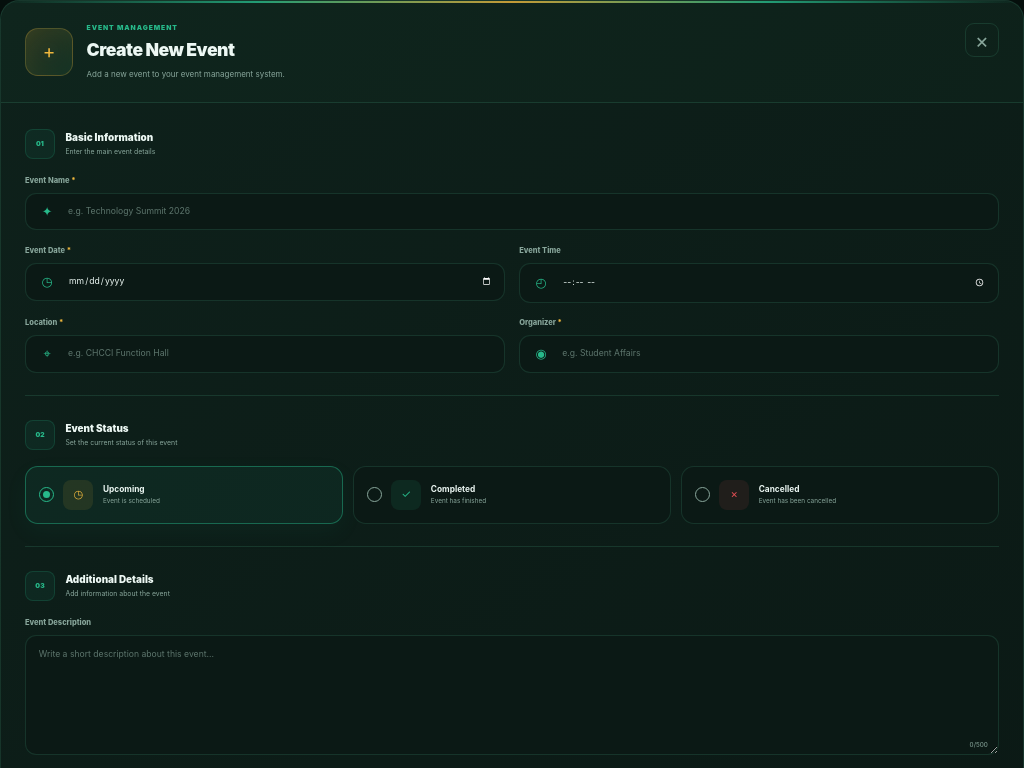
Event Management System › rejects an Upcoming event when the event date is already in the past
This screenshot has width=1024, height=768.
Type "Past Date Event" into the field labelled "Event Name *" at (533, 212), box [68,194,998,230]
Type "2020-01-01" into the date field labelled "Event Date *" at (286, 282), box [68,264,504,300]
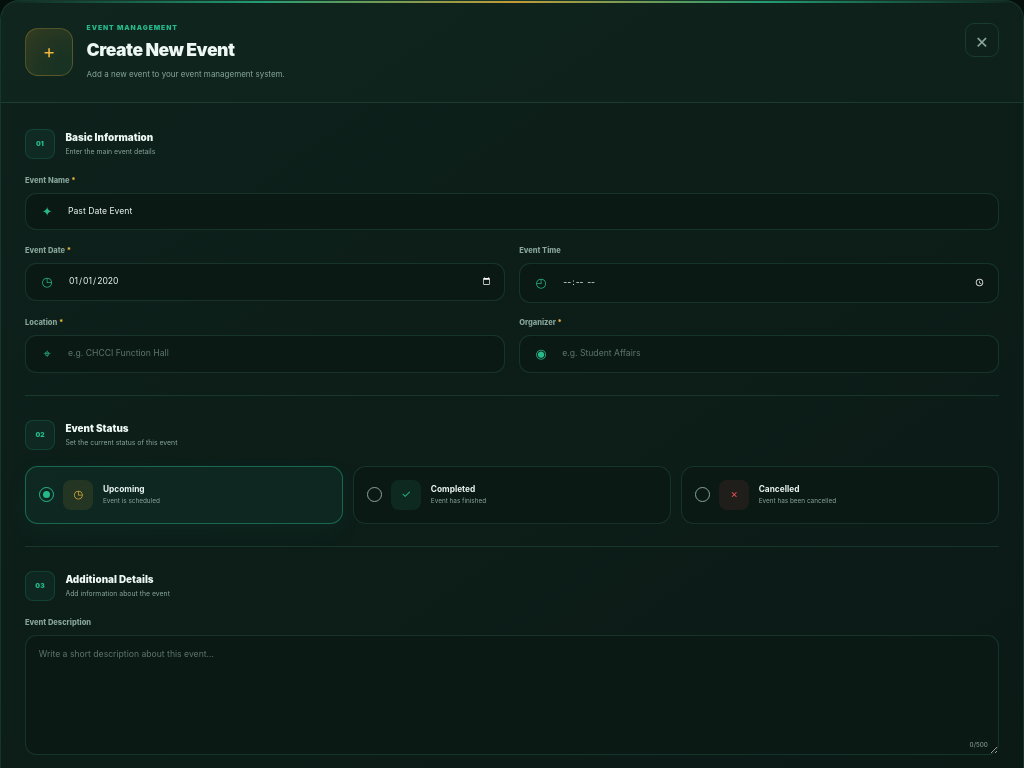
Type "10:00" into the time field labelled "Event Time" at (780, 283), box [562,264,998,302]
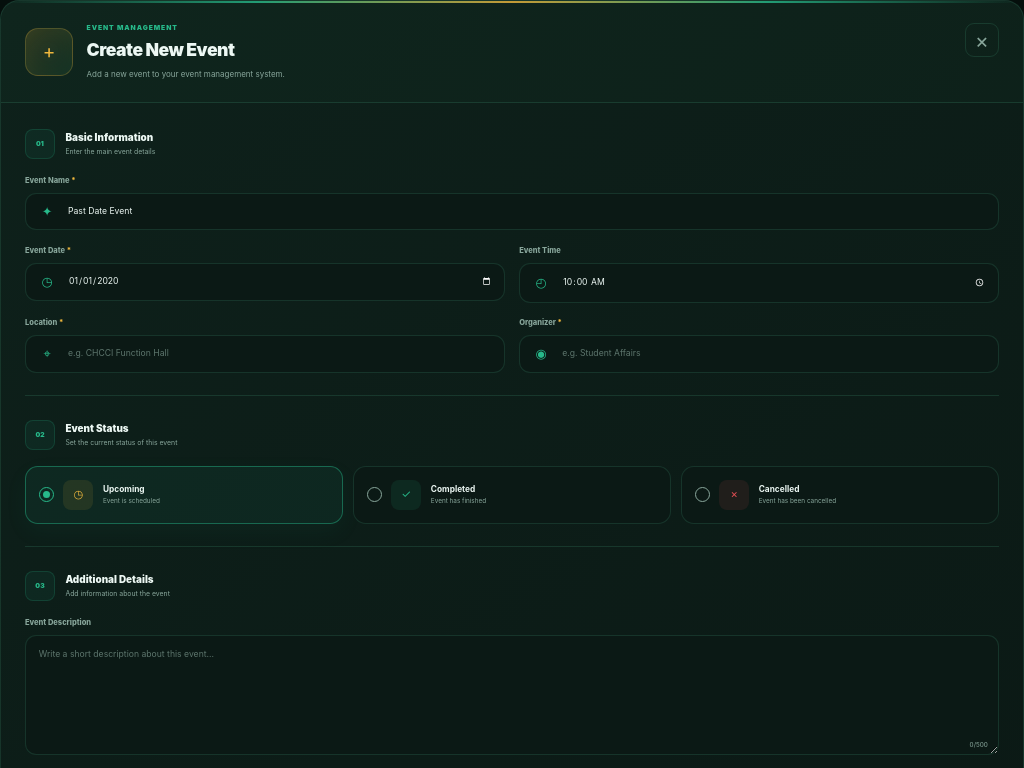
Type "CHCCI" into the field labelled "Location *" at (286, 354), box [68,336,504,372]
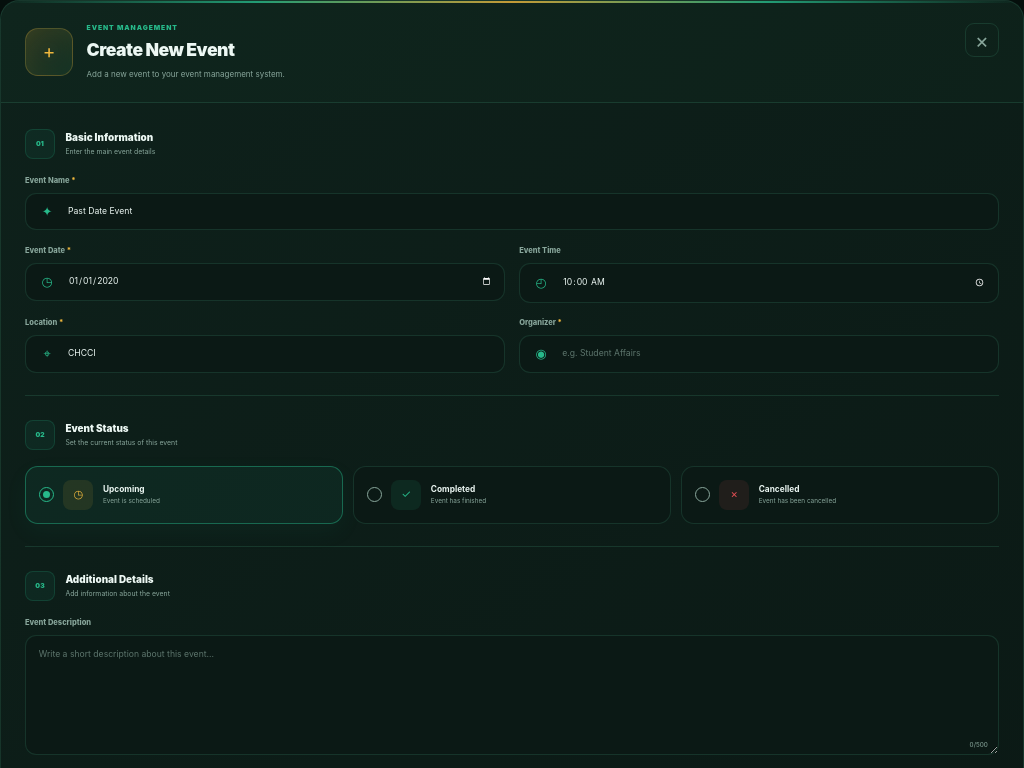
Type "Justin Pineda" into the field labelled "Organizer *" at (780, 354), box [562,336,998,372]
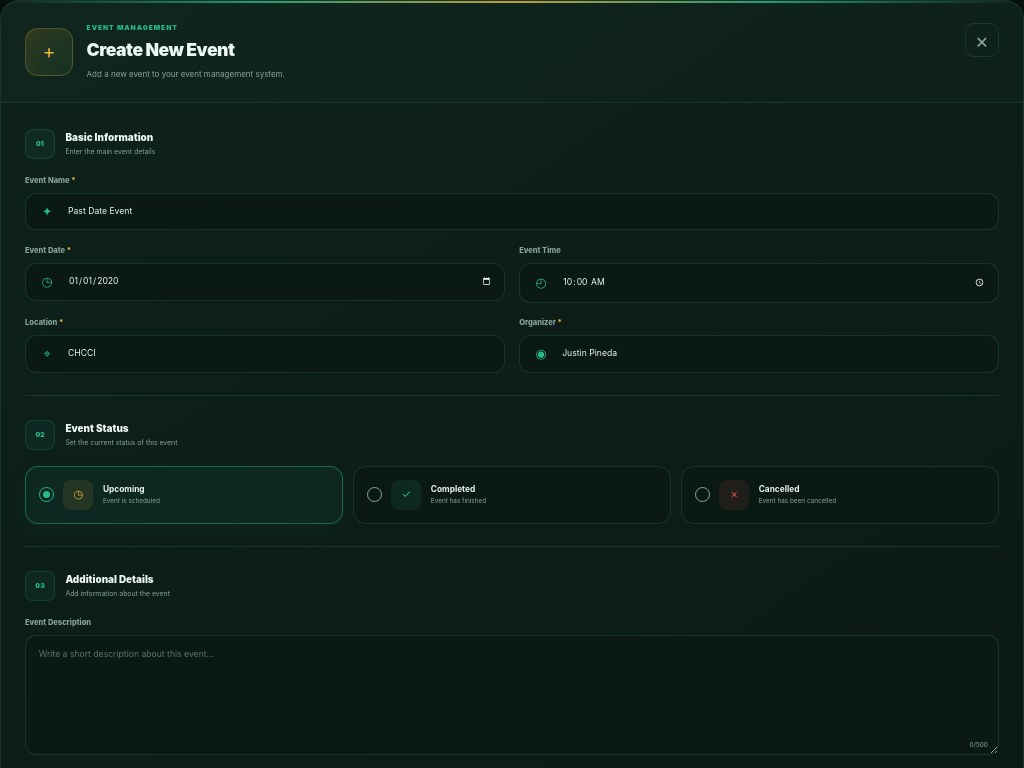
Click the radio button labelled "◷ Upcoming Event is scheduled" at (124, 489), box [25,466,343,524]
(page scrolled)
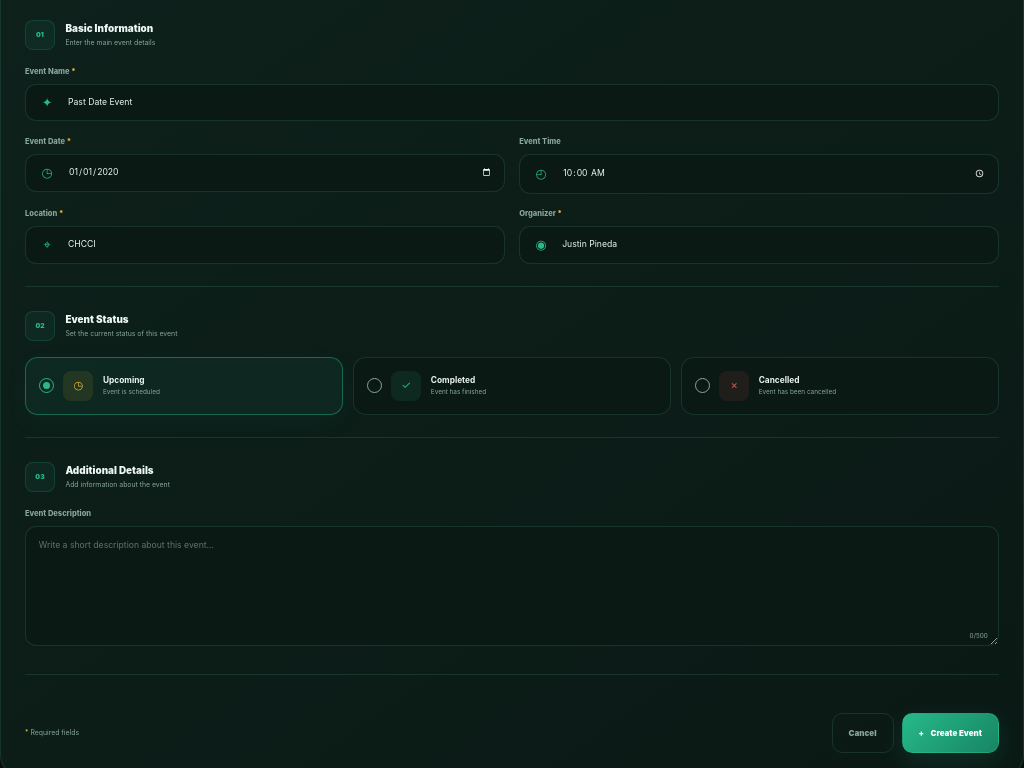
Submit the form
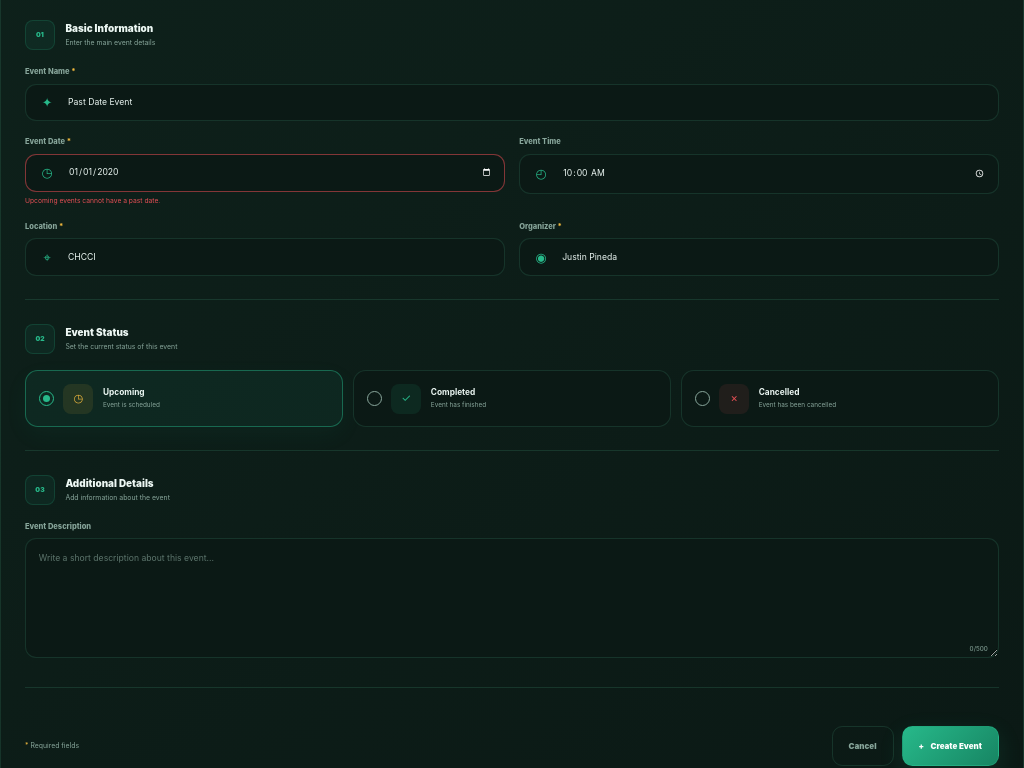
Now the text "Upcoming events cannot have a past date." is shown, box [25,196,160,205]
